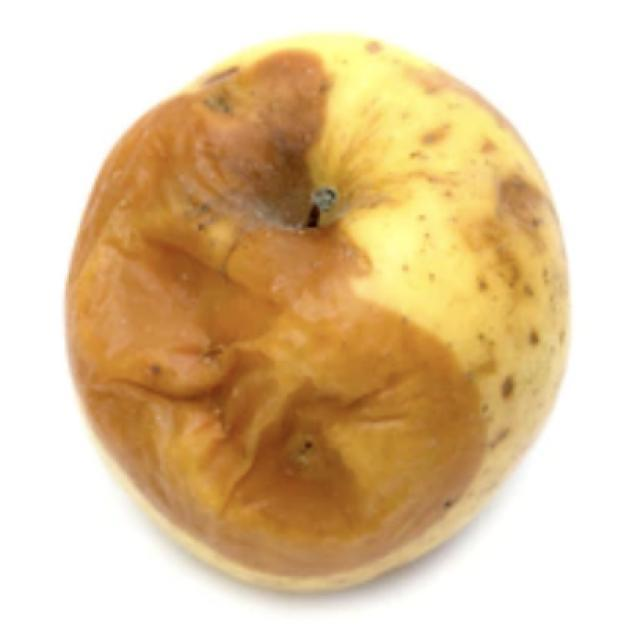Rotten: (72, 56, 560, 576)
